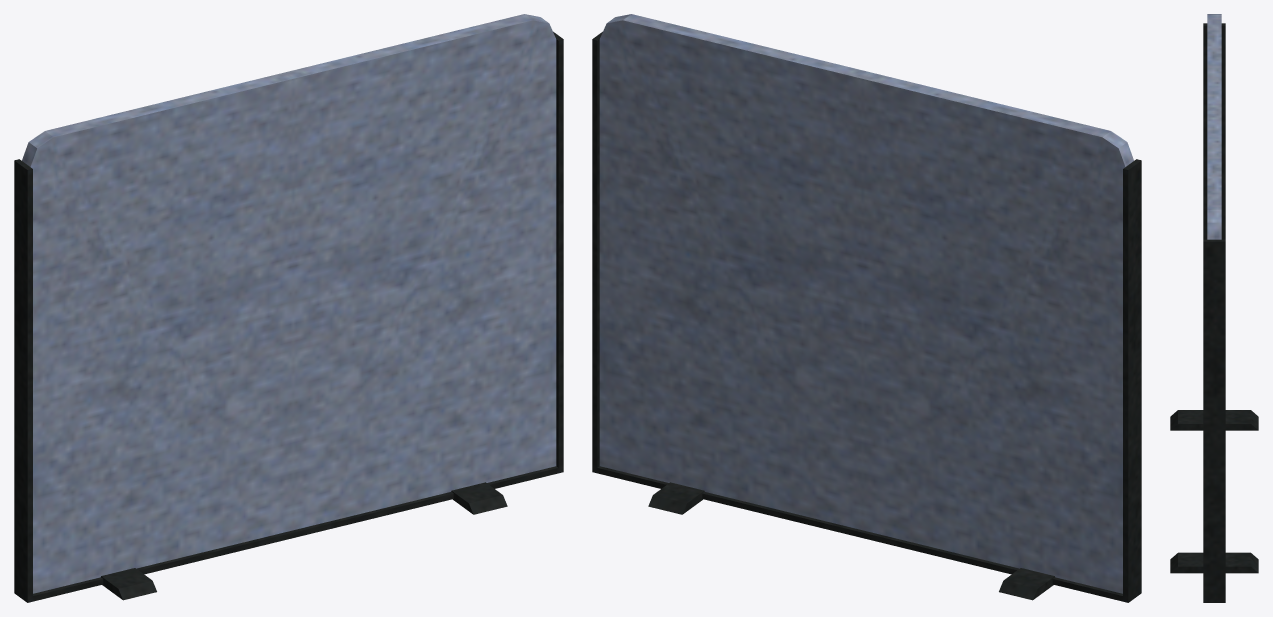
The model's file is divider_black_blue.obj.
The picture shows the model from 3 angles, left to right: view 1: azimuth 30°, elevation 25°; view 2: azimuth 150°, elevation 25°; view 3: azimuth 270°, elevation 25°; orthographic projection. The views are drawn at different scales.
Parts seen in each view (by area): view 1: divider_black_blue; view 2: divider_black_blue; view 3: divider_black_blue.
Boxes of the visible parts, x1,y1,x2,y2 form: divider_black_blue: [14, 14, 563, 602]; divider_black_blue: [592, 14, 1141, 602]; divider_black_blue: [1170, 14, 1258, 602].
Size of the model in its own units: 3.06 by 2.5 by 0.523.
